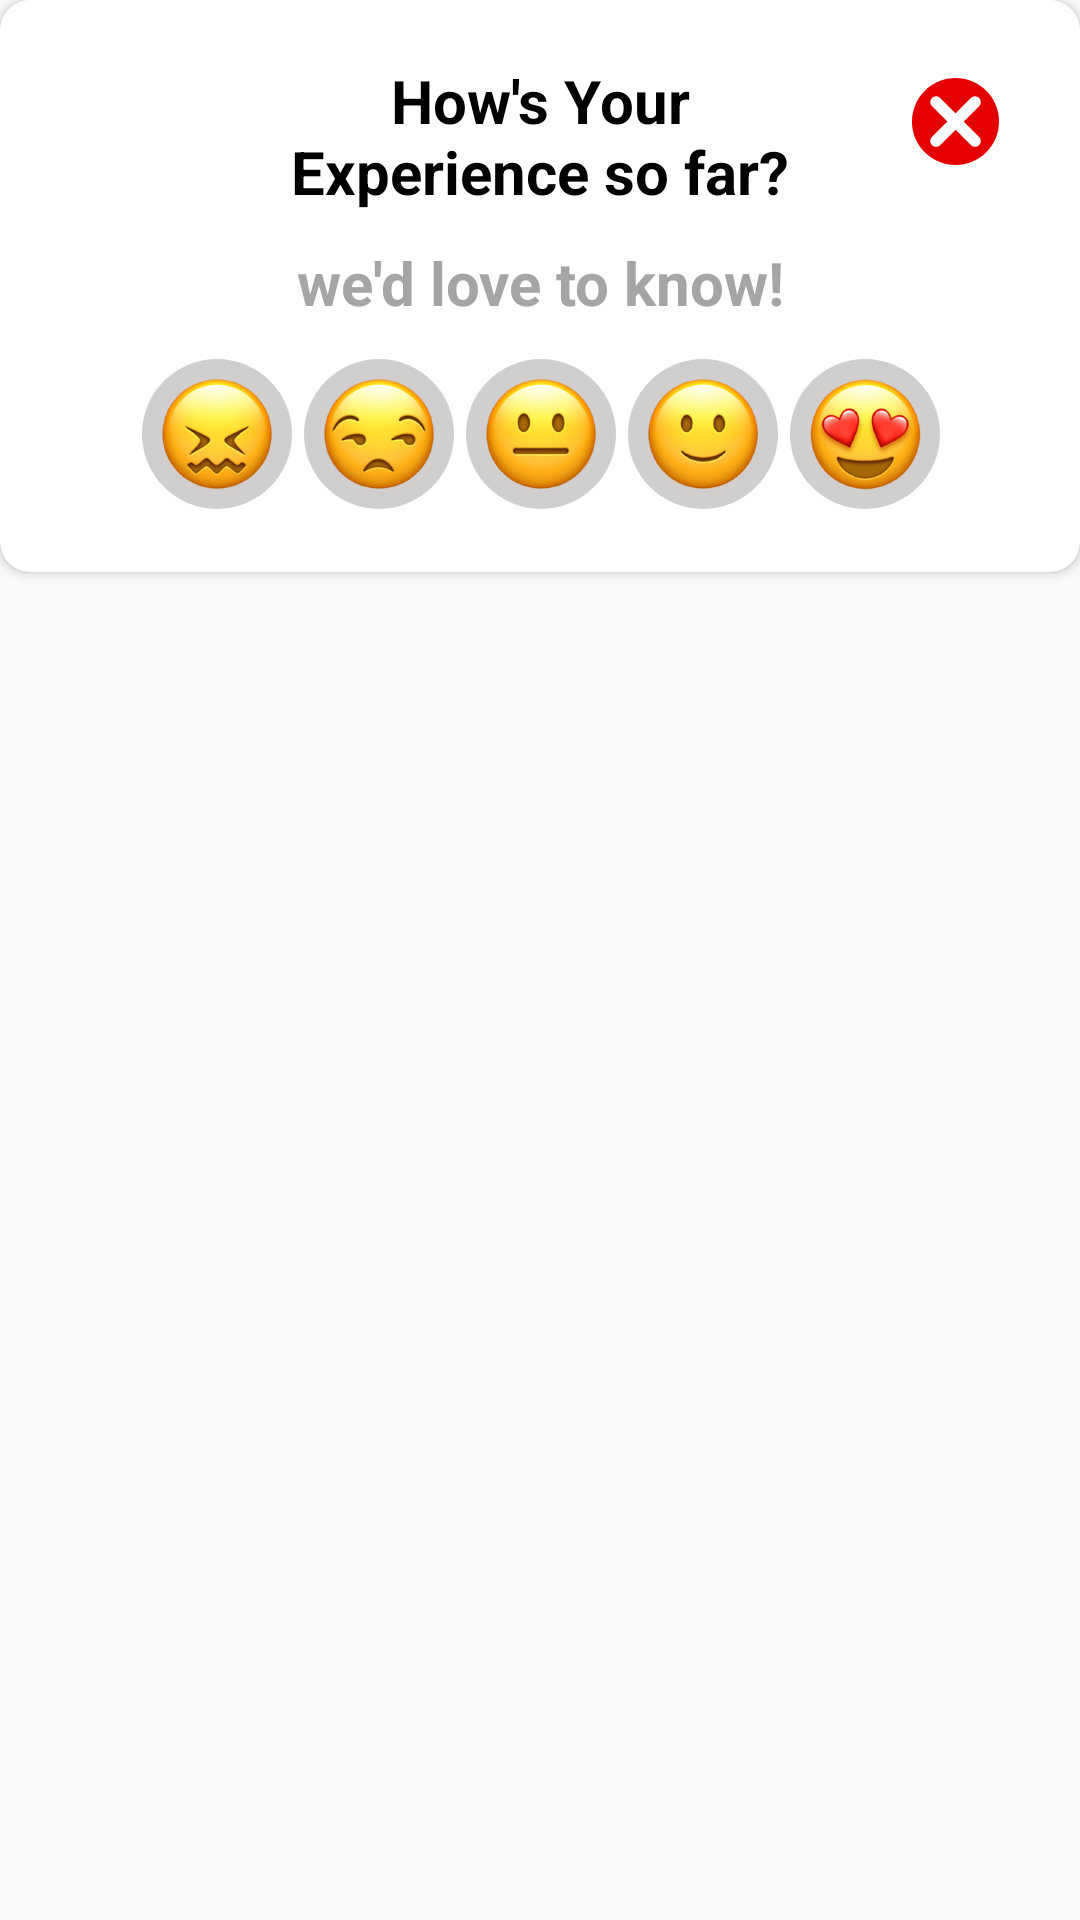

Screen size 1080x1920. Icon name, then its box in pixels as (x1, y1, x2, y2):
close: (912, 78, 999, 165)
